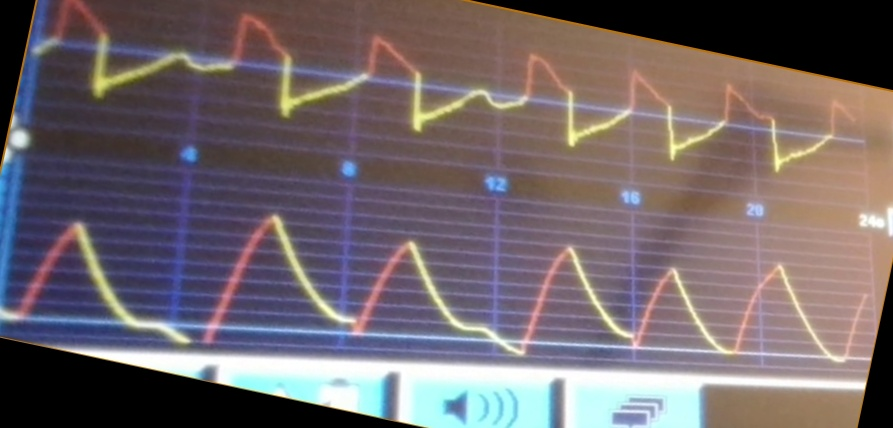Ineffective_effort Flow: (38, 1, 850, 170)
Ineffective_effort Volume: (2, 211, 867, 366)
